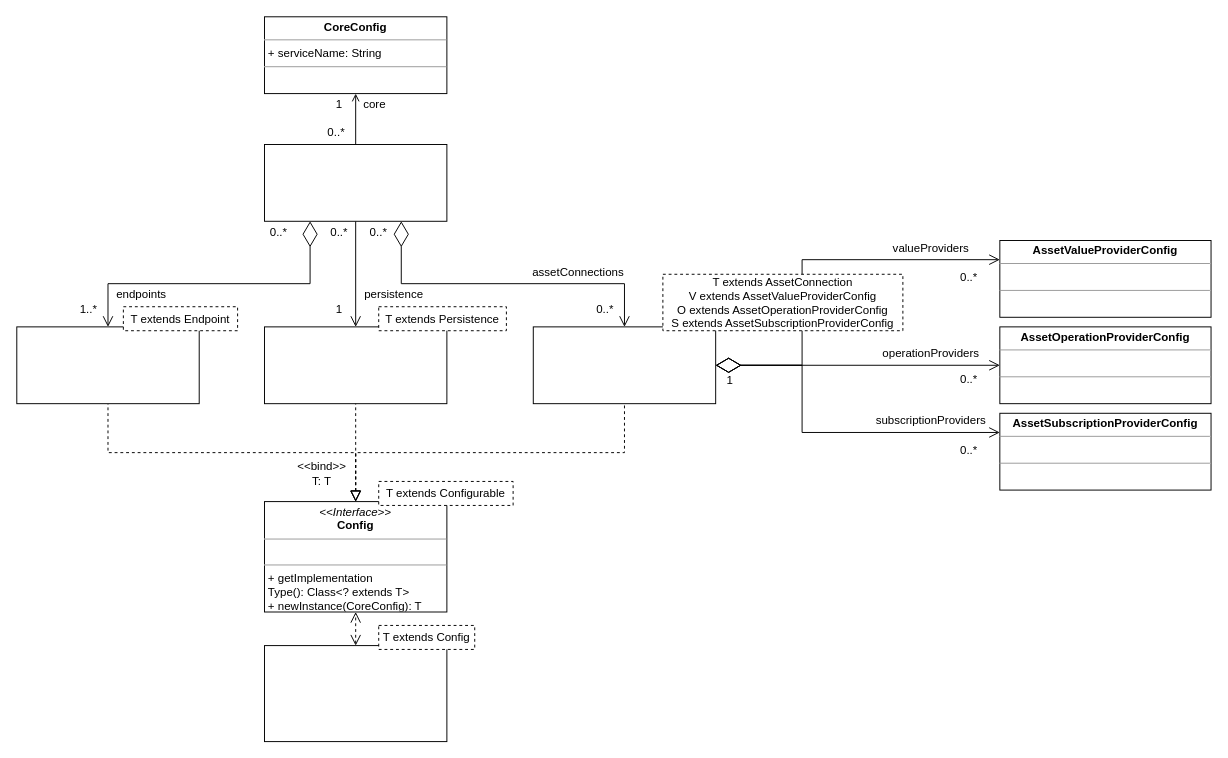
The diagram is 1228 pixels wide and 758 high, and some of its shapes have lost their labels. The centre of each missing label's shape, as x and y in pixels:
"<<Interface>> Configurable + init(CoreConfig, T) + asConfig(): T" belongs at point (355, 693).
"AssetConnectionConfig" belongs at point (624, 365).
"EndpointConfig" belongs at point (107, 365).
"PersistenceConfig" belongs at point (355, 365).
"ServiceConfig" belongs at point (355, 182).
